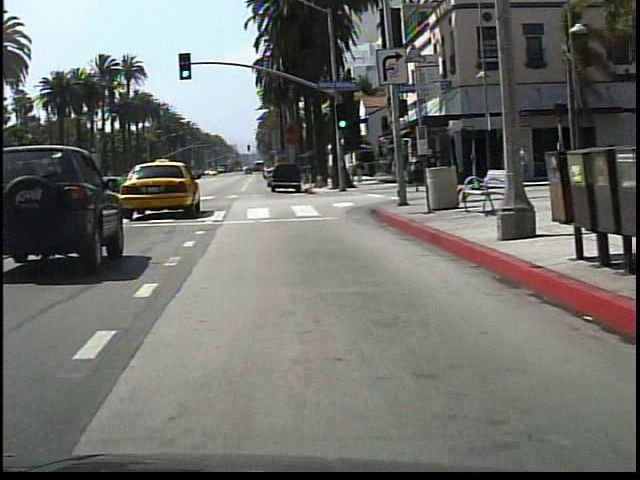person: (398, 147, 415, 196), (516, 142, 527, 182)
